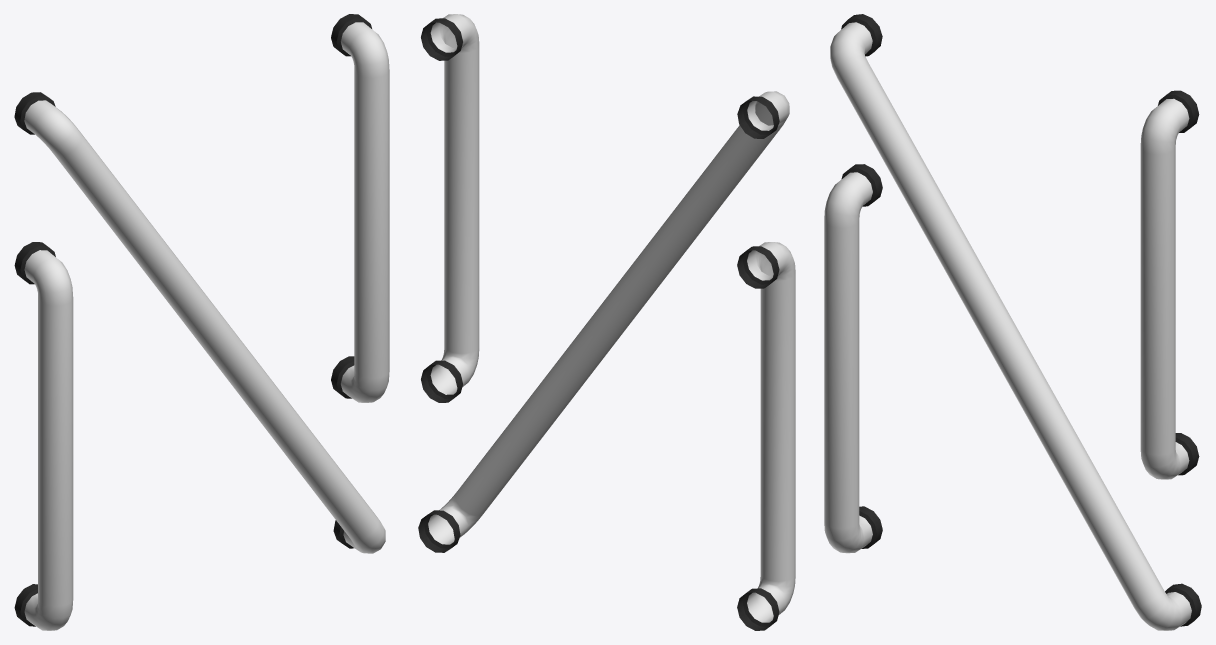
Rendered from LettersNeon01_N.FBX.
3 renders of one model, left to right at view 1: azimuth 30°, elevation 25°; view 2: azimuth 150°, elevation 25°; view 3: azimuth 330°, elevation 25°, orthographic.
Parts seen in each view (by area): view 1: LettersNeon01_N; view 2: LettersNeon01_N; view 3: LettersNeon01_N.
Boxes of the visible parts, x1,y1,x2,y2 form: LettersNeon01_N: (14,14,389,630); LettersNeon01_N: (418,14,795,630); LettersNeon01_N: (824,14,1201,630).
Size of what is drawn, in the model's own units: 0.3516 by 0.5018 by 0.054.
